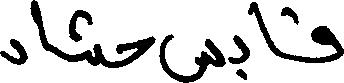X: (162, 29, 222, 82), (78, 5, 101, 70), (311, 21, 343, 67), (253, 0, 277, 60), (118, 32, 151, 72), (234, 5, 248, 82), (0, 34, 26, 69), (33, 0, 46, 55)
